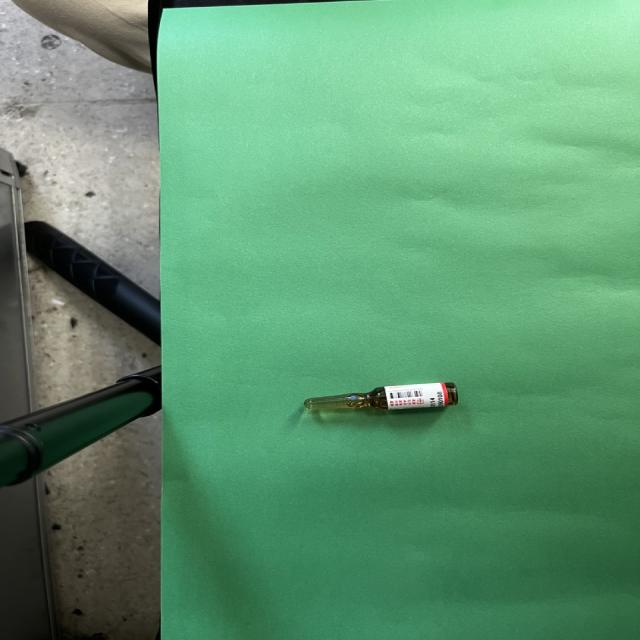Ampoules: (304, 382, 457, 412)
